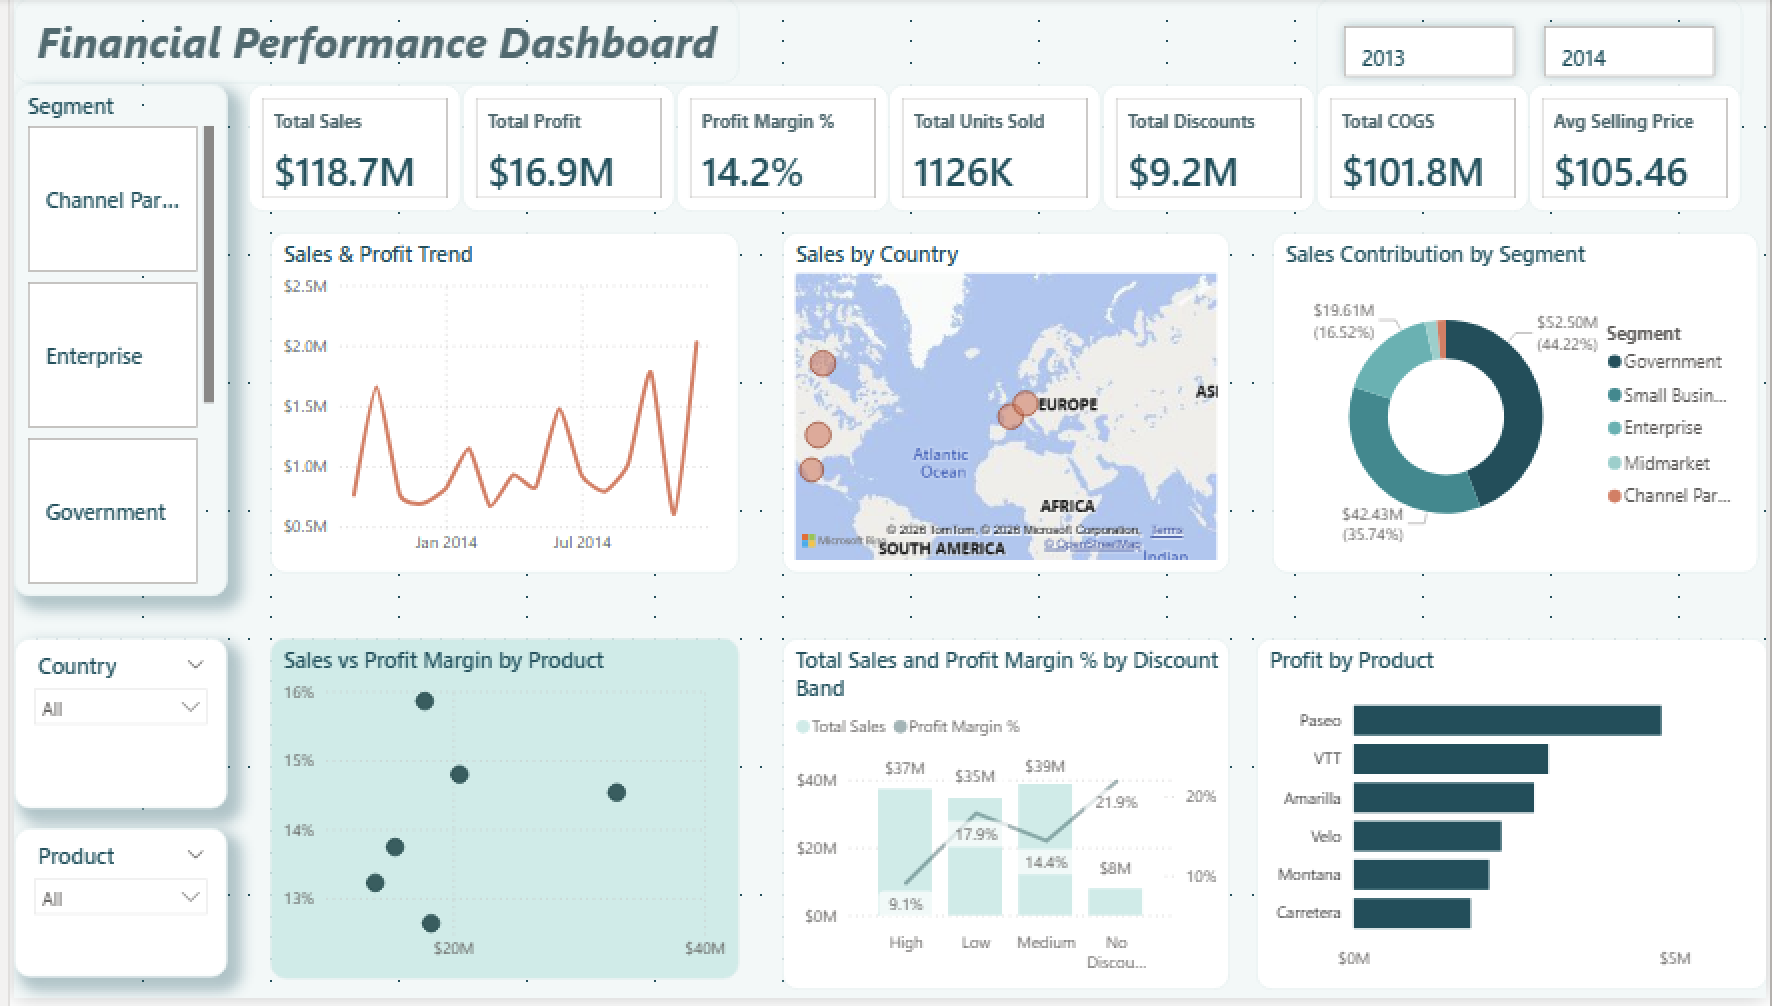

The dashboard page shown, as its layout file describes it:
{"tool":"powerbi","page":{"name":"Dashboard","canvas":[1315,750],"ordinal":0},"visuals":[{"type":"textbox","box":[0,0,544,64],"z":0},{"type":"advancedSlicerVisual","fields":{"Values":["Financial_Data.Segment"]},"box":[0,64,160,384],"z":1000},{"type":"slicer","fields":{"Values":["Financial_Data.Country"]},"box":[0,480,160,128],"z":2000},{"type":"advancedSlicerVisual","fields":{"Values":["Financial_Data.Year"]},"box":[976,0,320,80],"z":3000},{"type":"slicer","fields":{"Values":["Financial_Data.Product"]},"box":[0,623,160,112],"z":4000},{"type":"cardVisual","fields":{"Data":["Measures Table.Avg Selling Price"]},"box":[1136,64,160,96],"z":5000},{"type":"cardVisual","fields":{"Data":["Measures Table.Total COGS"]},"box":[976,64,160,96],"z":6000},{"type":"cardVisual","fields":{"Data":["Measures Table.Total Discounts"]},"box":[816,64,160,96],"z":7000},{"type":"cardVisual","fields":{"Data":["Measures Table.Profit Margin %"]},"box":[496,64,160,96],"z":8000},{"type":"cardVisual","fields":{"Data":["Measures Table.Total Units Sold"]},"box":[656,64,160,96],"z":9000},{"type":"cardVisual","fields":{"Data":["Measures Table.Total Profit"]},"box":[336,64,160,96],"z":10000},{"type":"cardVisual","fields":{"Data":["Measures Table.Total Sales"]},"box":[176,64,160,96],"z":11000},{"type":"donutChart","title":"Sales Contribution by Segment","fields":{"Category":["Financial_Data.Segment"],"Y":["Measures Table.Total Sales"]},"box":[944,176,365,256],"z":12000},{"type":"map","title":"Sales by Country","fields":{"Category":["Financial_Data.Country"],"Size":["Measures Table.Total Sales"]},"box":[576,176,336,256],"z":13000},{"type":"lineChart","title":"Sales & Profit Trend","fields":{"Y":["Measures Table.Total Profit"],"Category":["Financial_Data.Date.Variation.Date Hierarchy.Year","Financial_Data.Date.Variation.Date Hierarchy.Month"]},"box":[192,176,352,256],"z":14000},{"type":"scatterChart","title":"Sales vs Profit Margin by Product","fields":{"Category":["Financial_Data.Product"],"X":["Measures Table.Total Sales"],"Y":["Measures Table.Profit Margin %"]},"box":[192,480,352,256],"z":15000},{"type":"lineClusteredColumnComboChart","fields":{"Category":["Financial_Data.Discount Band"],"Y":["Measures Table.Total Sales"],"Y2":["Measures Table.Profit Margin %"]},"box":[576,480,336,264],"z":16000},{"type":"clusteredBarChart","title":"Profit by Product","fields":{"Category":["Financial_Data.Product"],"Y":["Measures Table.Total Profit"]},"box":[931,480,384,264],"z":17000}]}

Visuals, with their boxes in screenshot pixels (x1, y1, x2, y2), scaled from the page's 1315x750 canvas onto the 1772x1006 screenshot:
textbox: bbox=(0, 0, 733, 86)
advancedSlicerVisual - Financial_Data.Segment: bbox=(0, 86, 216, 601)
slicer - Financial_Data.Country: bbox=(0, 644, 216, 816)
advancedSlicerVisual - Financial_Data.Year: bbox=(1315, 0, 1746, 107)
slicer - Financial_Data.Product: bbox=(0, 836, 216, 986)
cardVisual - Measures Table.Avg Selling Price: bbox=(1531, 86, 1746, 215)
cardVisual - Measures Table.Total COGS: bbox=(1315, 86, 1531, 215)
cardVisual - Measures Table.Total Discounts: bbox=(1100, 86, 1315, 215)
cardVisual - Measures Table.Profit Margin %: bbox=(668, 86, 884, 215)
cardVisual - Measures Table.Total Units Sold: bbox=(884, 86, 1100, 215)
cardVisual - Measures Table.Total Profit: bbox=(453, 86, 668, 215)
cardVisual - Measures Table.Total Sales: bbox=(237, 86, 453, 215)
"Sales Contribution by Segment" donutChart: bbox=(1272, 236, 1764, 579)
"Sales by Country" map: bbox=(776, 236, 1229, 579)
"Sales & Profit Trend" lineChart: bbox=(259, 236, 733, 579)
"Sales vs Profit Margin by Product" scatterChart: bbox=(259, 644, 733, 987)
lineClusteredColumnComboChart - Financial_Data.Discount Band x Measures Table.Total Sales: bbox=(776, 644, 1229, 998)
"Profit by Product" clusteredBarChart: bbox=(1255, 644, 1771, 998)
